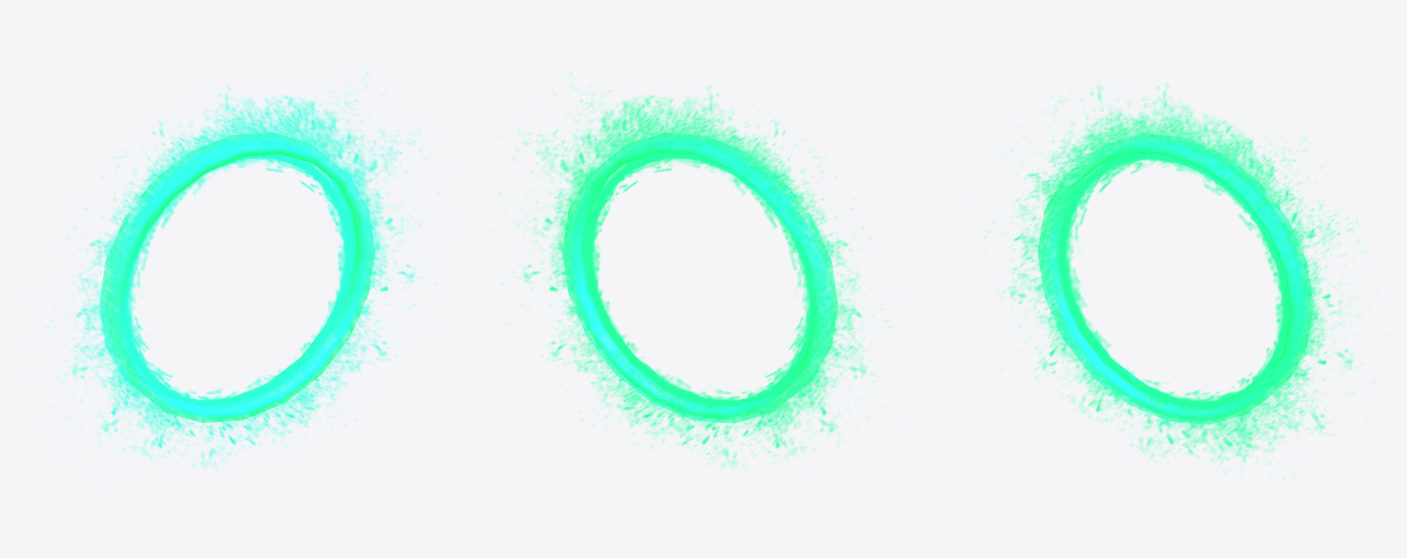
Rendered from 2446f2a3-5bfe-43a8-acd8-6a0174f64aff.glb.
The picture shows the model from 3 angles, left to right: view 1: azimuth 30°, elevation 25°; view 2: azimuth 150°, elevation 25°; view 3: azimuth 330°, elevation 25°; orthographic projection.
Visible parts, largest first — view 1: Portal; view 2: Portal; view 3: Portal.
Part boxes in pixels (left/top/right/bottom): Portal: left=48, top=72, right=437, bottom=469; Portal: left=500, top=72, right=889, bottom=469; Portal: left=985, top=84, right=1374, bottom=480.
Size of what is drawn, in the model's own units: 3.21 by 2.95 by 0.1641.
1 material, 1 textured.
